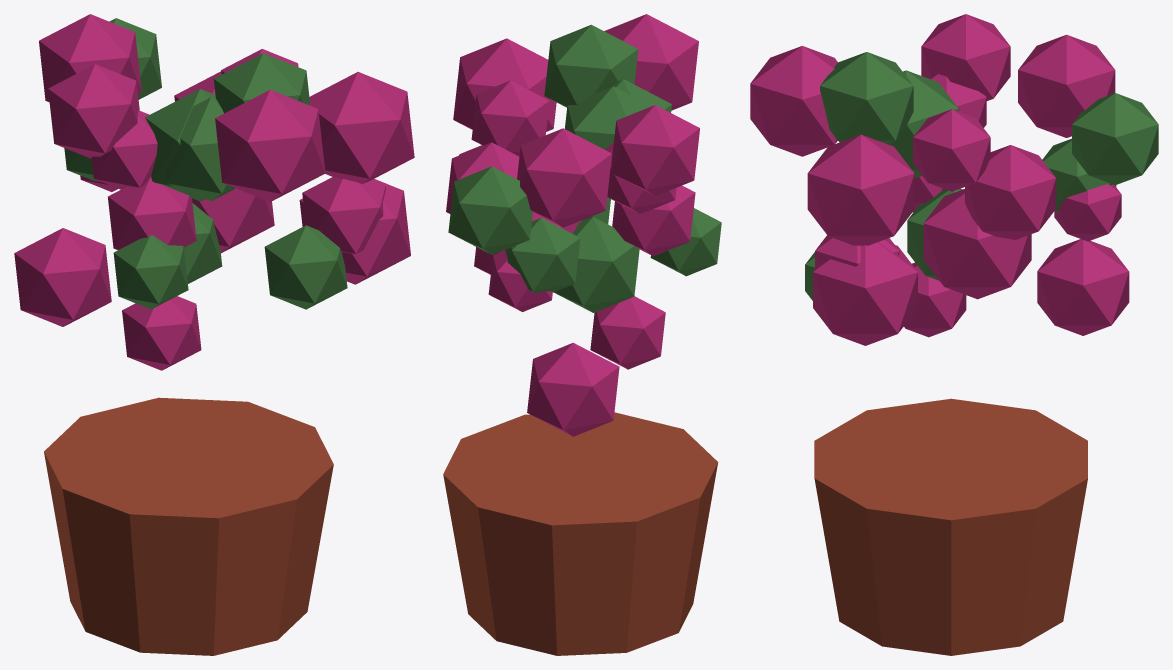
Rendered from chau_boug.glb.
The picture shows the model from 3 angles, left to right: view 1: azimuth 30°, elevation 25°; view 2: azimuth 150°, elevation 25°; view 3: azimuth 270°, elevation 25°; orthographic projection. The views are drawn at different scales.
Visible parts, largest first — view 1: chau_boug; view 2: chau_boug; view 3: chau_boug.
Part boxes in pixels (bbox=[...]): chau_boug: bbox=[14, 14, 414, 655]; chau_boug: bbox=[443, 14, 721, 655]; chau_boug: bbox=[750, 14, 1158, 655].
Size of the model in its own units: 0.5228 by 0.961 by 0.6246.
